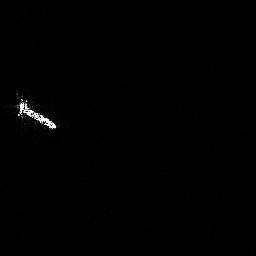ship: (13, 91, 58, 131)
